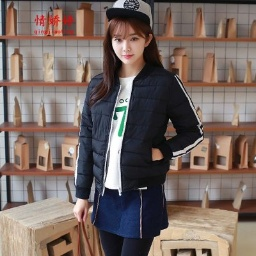face: (95, 10, 164, 74)
